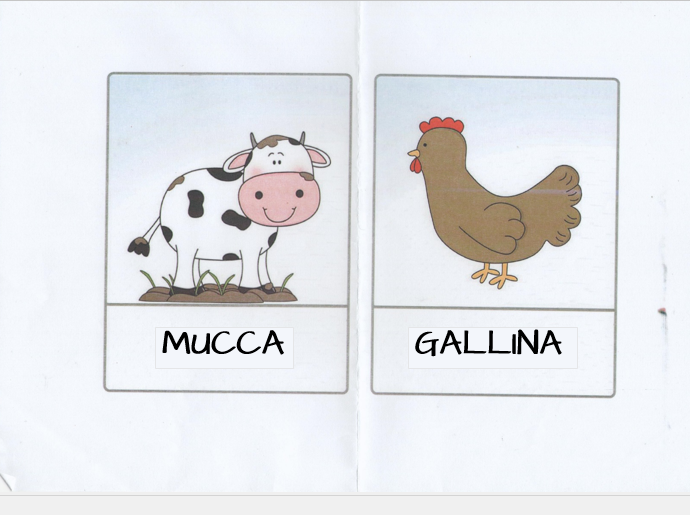gallina: (378, 88, 604, 385)
mucca: (118, 86, 334, 373)
